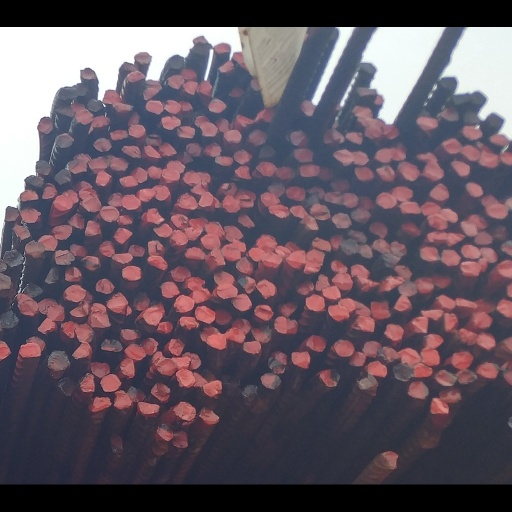dipstick: (90, 302, 110, 327), (48, 351, 69, 370), (305, 251, 324, 272), (422, 161, 443, 180), (174, 401, 195, 419), (398, 162, 419, 180), (2, 249, 24, 266), (18, 298, 38, 316), (100, 374, 120, 392), (256, 278, 276, 296), (393, 363, 413, 381), (352, 315, 374, 331), (237, 188, 255, 207), (108, 293, 127, 311), (151, 383, 170, 401), (376, 165, 395, 183), (194, 306, 214, 323), (334, 339, 354, 356), (333, 149, 353, 166), (382, 450, 399, 470), (156, 359, 177, 375), (452, 352, 473, 368), (457, 369, 478, 385), (436, 370, 457, 386), (420, 247, 441, 263), (76, 324, 94, 342), (206, 249, 224, 267), (253, 325, 271, 343), (69, 301, 88, 318), (143, 308, 162, 325), (307, 335, 326, 352), (320, 369, 339, 386), (333, 273, 352, 290), (441, 249, 460, 266), (321, 129, 344, 143), (256, 235, 276, 251), (408, 382, 428, 398), (366, 361, 387, 376), (379, 277, 401, 291), (439, 389, 461, 403), (176, 370, 194, 387), (203, 380, 221, 397), (371, 301, 389, 318), (422, 348, 440, 365), (431, 183, 448, 201), (176, 295, 195, 311), (290, 352, 309, 368), (376, 193, 395, 209), (473, 312, 492, 328), (432, 273, 451, 289), (479, 151, 498, 167), (233, 149, 253, 164), (65, 285, 85, 300), (223, 226, 243, 241), (125, 344, 145, 359), (400, 348, 420, 363), (479, 363, 499, 378), (377, 349, 400, 362), (131, 292, 148, 309), (1, 310, 18, 327), (288, 250, 305, 267), (96, 278, 114, 294), (208, 334, 226, 350), (255, 305, 273, 321), (306, 295, 324, 311), (459, 329, 477, 345), (477, 333, 495, 349), (496, 300, 512, 318), (88, 158, 110, 171), (257, 162, 276, 177), (171, 266, 190, 281), (200, 409, 219, 424), (232, 295, 251, 310), (262, 374, 281, 389), (300, 216, 319, 231), (332, 213, 351, 228), (351, 208, 370, 223), (384, 325, 403, 340), (428, 215, 447, 230), (443, 139, 462, 154), (25, 241, 45, 255), (82, 198, 102, 212), (120, 358, 134, 378), (357, 277, 377, 291), (329, 306, 349, 320), (421, 201, 441, 215), (80, 256, 101, 269), (22, 284, 43, 297), (184, 247, 205, 260), (131, 166, 147, 183), (147, 240, 164, 256), (85, 220, 101, 237), (236, 257, 253, 273), (57, 378, 73, 395), (91, 361, 108, 377), (114, 392, 131, 408), (141, 337, 157, 354), (215, 308, 232, 324), (462, 145, 479, 161), (101, 206, 119, 221), (179, 193, 197, 208), (72, 343, 90, 358), (414, 363, 432, 378), (430, 398, 448, 413), (461, 261, 479, 276), (205, 221, 224, 235), (286, 187, 305, 201), (311, 205, 330, 219), (331, 178, 350, 192), (358, 376, 377, 390), (137, 401, 159, 413), (487, 206, 509, 218), (259, 192, 279, 205), (147, 256, 167, 269), (54, 251, 74, 264), (214, 271, 234, 284), (217, 284, 237, 297), (20, 343, 40, 356), (269, 205, 289, 218), (293, 149, 313, 162), (427, 231, 447, 244), (462, 126, 482, 139), (354, 167, 374, 180), (250, 129, 266, 145), (38, 318, 54, 334), (38, 117, 53, 134), (79, 374, 94, 391), (185, 352, 200, 369), (173, 430, 188, 447), (238, 277, 255, 292), (341, 239, 358, 254), (393, 296, 410, 311), (413, 317, 428, 334), (497, 260, 512, 277), (56, 133, 74, 147), (21, 208, 39, 222), (39, 236, 57, 250), (54, 225, 72, 239), (234, 165, 252, 179), (114, 228, 132, 242), (40, 299, 58, 313), (160, 282, 178, 296), (202, 234, 220, 248), (222, 245, 240, 259), (101, 339, 122, 351), (93, 397, 111, 411), (369, 223, 387, 237), (372, 239, 390, 253), (440, 77, 458, 91), (180, 317, 199, 330), (262, 253, 281, 266), (312, 238, 331, 251), (444, 313, 457, 332), (353, 105, 372, 118), (358, 116, 385, 125), (224, 196, 240, 211), (157, 425, 173, 440), (281, 300, 297, 315), (417, 278, 433, 293), (349, 351, 365, 366), (364, 341, 379, 357), (400, 201, 420, 213), (393, 187, 413, 199), (453, 161, 469, 176), (487, 112, 503, 127), (54, 195, 71, 209), (122, 194, 139, 208), (122, 266, 139, 280), (64, 267, 81, 281), (192, 290, 209, 304), (233, 318, 250, 332), (382, 253, 399, 267), (426, 334, 443, 348), (462, 245, 479, 259), (470, 215, 487, 229), (467, 182, 484, 196), (382, 125, 399, 139), (162, 116, 180, 129), (187, 277, 205, 290), (200, 327, 218, 340), (226, 329, 244, 342), (462, 111, 480, 124), (416, 117, 437, 128), (300, 164, 319, 176), (351, 265, 370, 277), (401, 223, 420, 235), (155, 185, 170, 200), (172, 230, 187, 245), (481, 247, 496, 262), (13, 225, 29, 239), (146, 100, 162, 114), (168, 75, 184, 89), (186, 143, 202, 157), (248, 247, 264, 261), (169, 339, 183, 355), (291, 131, 305, 147), (399, 280, 415, 294), (353, 151, 369, 165), (204, 143, 221, 156), (127, 387, 144, 400), (243, 340, 260, 353), (438, 295, 455, 308), (110, 158, 128, 170), (213, 42, 231, 54), (162, 169, 180, 181), (182, 172, 200, 184), (104, 89, 119, 103), (96, 171, 110, 186), (5, 206, 19, 221), (168, 55, 183, 69), (148, 208, 163, 222), (61, 322, 76, 336), (28, 336, 43, 350), (298, 280, 313, 294), (342, 193, 357, 207), (491, 135, 512, 145), (19, 190, 38, 201), (79, 66, 95, 79), (55, 170, 71, 183), (139, 188, 155, 201), (209, 98, 225, 111), (164, 100, 180, 113), (198, 80, 211, 96), (201, 123, 217, 136), (220, 183, 236, 196), (155, 223, 171, 236), (70, 243, 86, 256), (45, 268, 58, 284), (268, 359, 284, 372), (324, 286, 340, 299), (448, 232, 464, 245), (441, 209, 457, 222), (390, 148, 406, 161), (94, 139, 111, 151), (236, 115, 253, 127), (274, 316, 286, 333), (346, 132, 363, 144), (364, 126, 381, 138), (67, 161, 87, 171), (452, 93, 472, 103), (126, 72, 144, 83), (276, 167, 294, 178), (324, 192, 342, 203), (349, 230, 367, 241), (35, 161, 49, 175), (100, 241, 114, 255), (49, 306, 63, 320), (302, 101, 316, 115), (43, 183, 56, 198), (69, 214, 84, 227), (198, 193, 213, 206), (238, 214, 253, 227), (269, 181, 284, 194), (359, 193, 372, 208), (391, 242, 406, 255), (355, 302, 370, 315), (461, 221, 476, 234), (75, 111, 91, 123), (123, 145, 139, 157), (146, 134, 162, 146), (191, 43, 207, 55), (128, 244, 144, 256), (172, 215, 188, 227), (331, 260, 347, 272), (144, 79, 163, 89), (441, 110, 460, 120), (111, 253, 132, 262), (422, 309, 443, 318), (92, 116, 109, 127), (143, 146, 160, 157), (178, 126, 195, 137), (223, 130, 240, 141), (120, 329, 137, 340), (0, 342, 11, 359), (395, 266, 412, 277), (476, 233, 493, 244), (108, 193, 121, 207), (219, 60, 233, 73), (472, 92, 486, 105), (376, 148, 390, 161), (87, 99, 102, 111), (109, 129, 127, 139), (185, 80, 197, 95), (166, 160, 184, 170), (186, 227, 201, 239), (175, 357, 190, 369), (286, 318, 298, 333), (457, 299, 477, 308), (129, 125, 145, 136), (59, 88, 76, 98), (57, 107, 74, 117), (160, 145, 177, 155), (358, 88, 375, 98), (260, 146, 274, 158), (360, 244, 372, 258), (0, 275, 11, 290), (291, 205, 306, 216), (180, 70, 198, 79), (228, 87, 244, 97), (232, 50, 244, 63), (216, 118, 228, 131), (148, 167, 161, 179), (128, 111, 139, 125), (136, 52, 150, 63), (144, 89, 158, 100), (262, 109, 273, 123), (26, 177, 43, 186), (215, 156, 232, 165), (418, 153, 437, 161), (339, 299, 354, 309), (120, 177, 136, 186), (190, 217, 208, 225), (481, 196, 499, 204), (500, 153, 512, 165), (195, 115, 208, 126), (195, 373, 206, 386), (315, 279, 328, 290), (118, 214, 132, 224), (158, 322, 172, 332), (80, 190, 97, 198), (113, 103, 132, 110), (73, 182, 92, 189), (190, 185, 206, 193), (234, 240, 245, 251), (76, 84, 88, 94), (71, 102, 86, 110), (122, 63, 137, 71), (277, 246, 289, 256), (180, 102, 193, 111), (193, 36, 207, 44), (375, 94, 384, 106), (74, 153, 89, 160), (69, 189, 77, 202), (200, 172, 209, 183)
